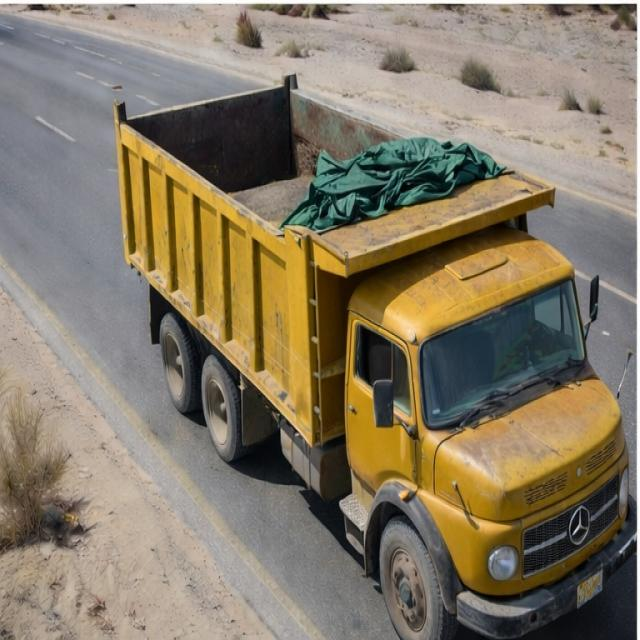trailer: (85, 75, 564, 244)
truck: (67, 18, 635, 635)
